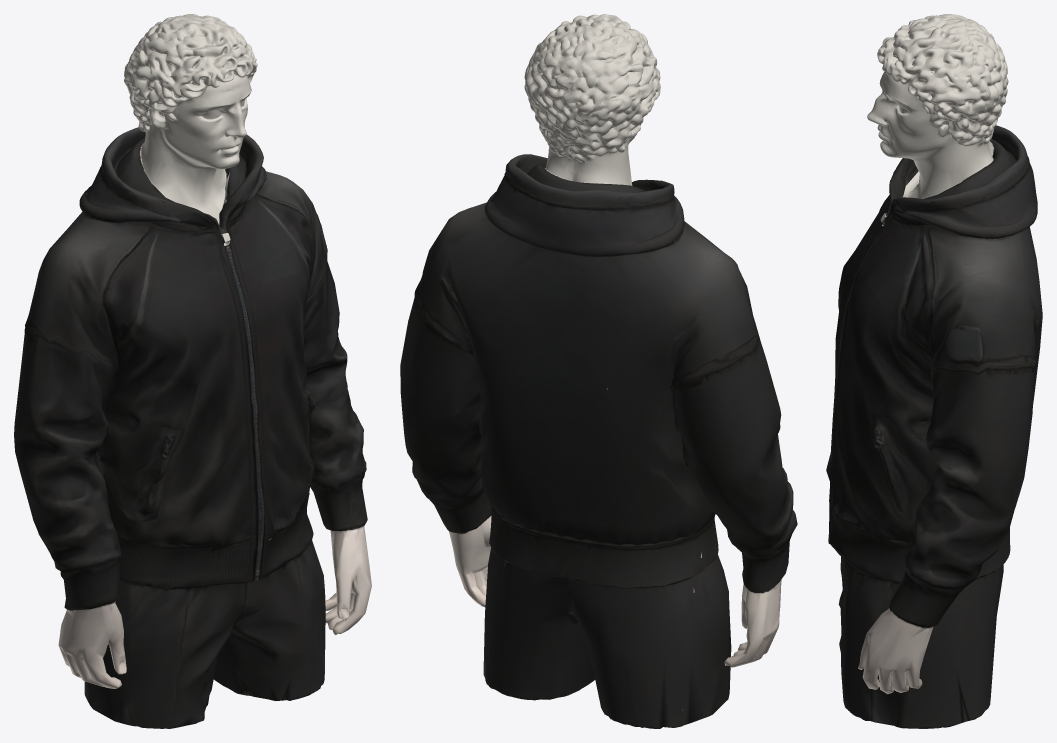
File: hoodie-sculpture-sewn.glb
3 renders of one model, left to right at view 1: azimuth 30°, elevation 25°; view 2: azimuth 150°, elevation 25°; view 3: azimuth 270°, elevation 25°, orthographic. The views are drawn at different scales.
Parts seen in each view (by area): view 1: model; view 2: model; view 3: model.
Part boxes in pixels (<box>): model: <box>14,14,371,728</box>; model: <box>400,14,797,728</box>; model: <box>826,14,1042,728</box>.
Bounding box in the file's own units: 1.03 × 1.9 × 0.5682.
2 materials, 1 textured.
